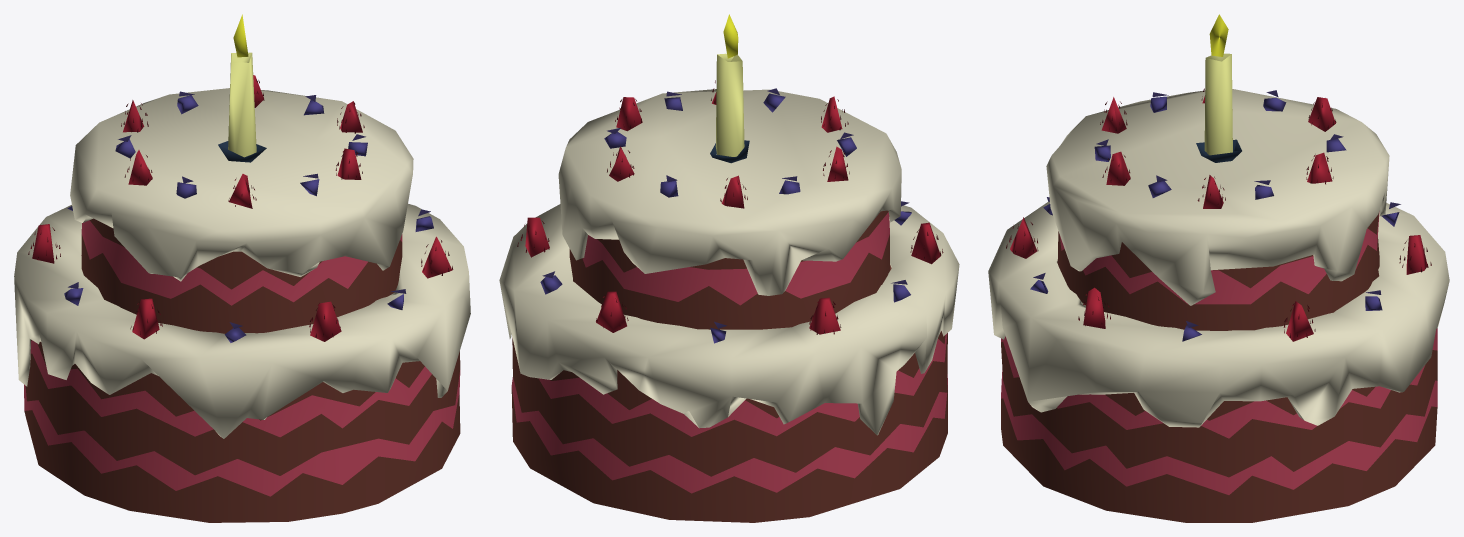
Rendered from cake.glb.
3 renders of one model, left to right at view 1: azimuth 30°, elevation 25°; view 2: azimuth 150°, elevation 25°; view 3: azimuth 270°, elevation 25°, orthographic.
Visible parts, largest first — view 1: Object_4; view 2: Object_4; view 3: Object_4.
Part boxes in pixels (left/top/right/bottom): Object_4: left=14, top=14, right=470, bottom=522; Object_4: left=499, top=14, right=959, bottom=522; Object_4: left=988, top=14, right=1449, bottom=522.
Bounding box in the file's own units: 0.2206 × 0.22 × 0.2202.
